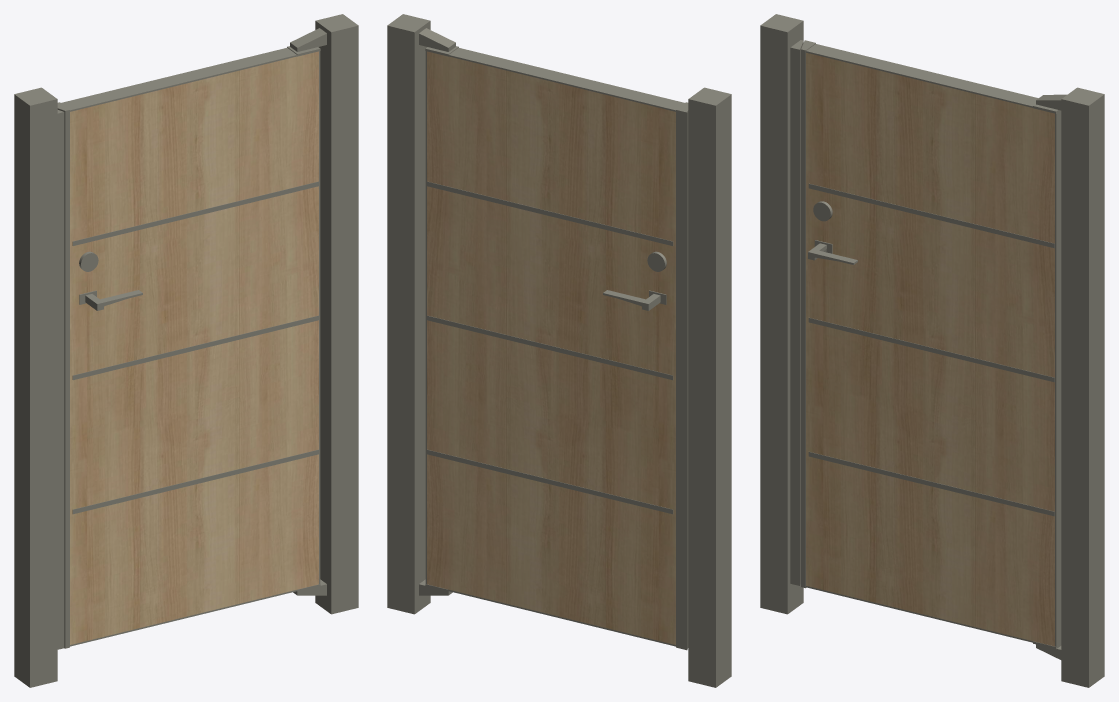
Rendered from abmonpi-line_h1400-w700_actyoak.fbx.
3 views of the same model, side by side, from view 1: azimuth 30°, elevation 25°; view 2: azimuth 150°, elevation 25°; view 3: azimuth 330°, elevation 25° (orthographic).
Visible parts, largest first — view 1: abmonpi-line_h1400-w700_rustycopper; view 2: abmonpi-line_h1400-w700_rustycopper; view 3: abmonpi-line_h1400-w700_rustycopper.
Boxes of the visible parts, <box> form: abmonpi-line_h1400-w700_rustycopper: <box>14,14,358,687</box>; abmonpi-line_h1400-w700_rustycopper: <box>387,14,731,687</box>; abmonpi-line_h1400-w700_rustycopper: <box>760,14,1104,687</box>.
Size of the model in its own units: 89.8 by 152 by 16.7.
Materials: 2 (2 with a texture image).
